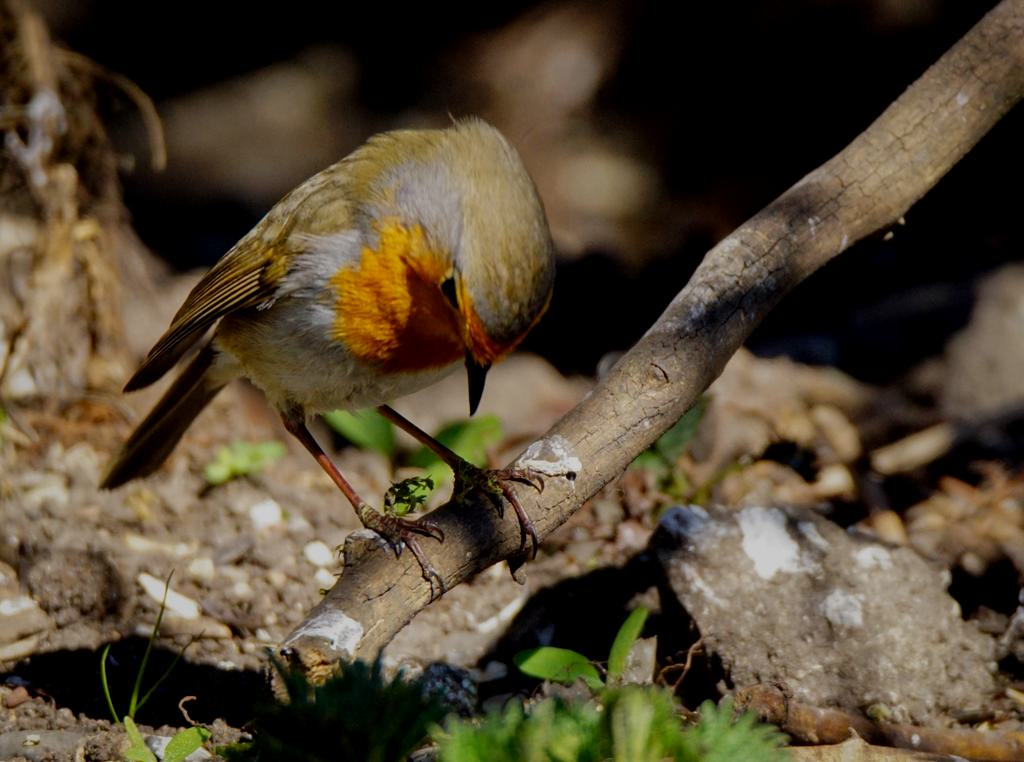ErithacusRubecula: (99, 111, 554, 596)
